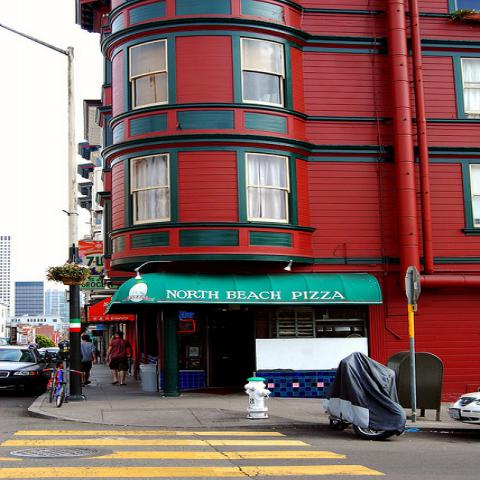car: (0, 345, 46, 392), (445, 390, 479, 427)
motorcycle: (323, 348, 411, 440)
